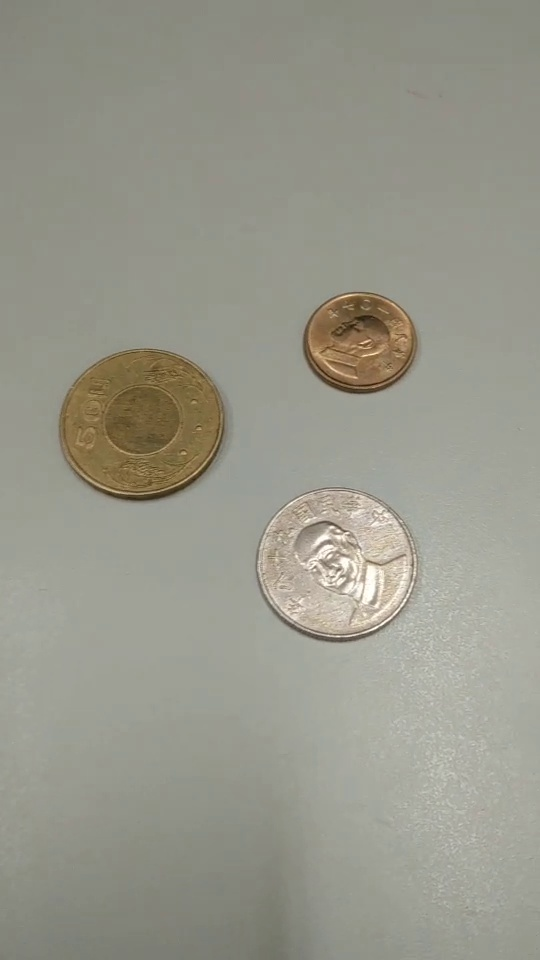NT$ 1: (302, 293, 417, 394)
NT$ 10: (255, 487, 421, 643)
NT$ 50: (57, 349, 228, 502)
